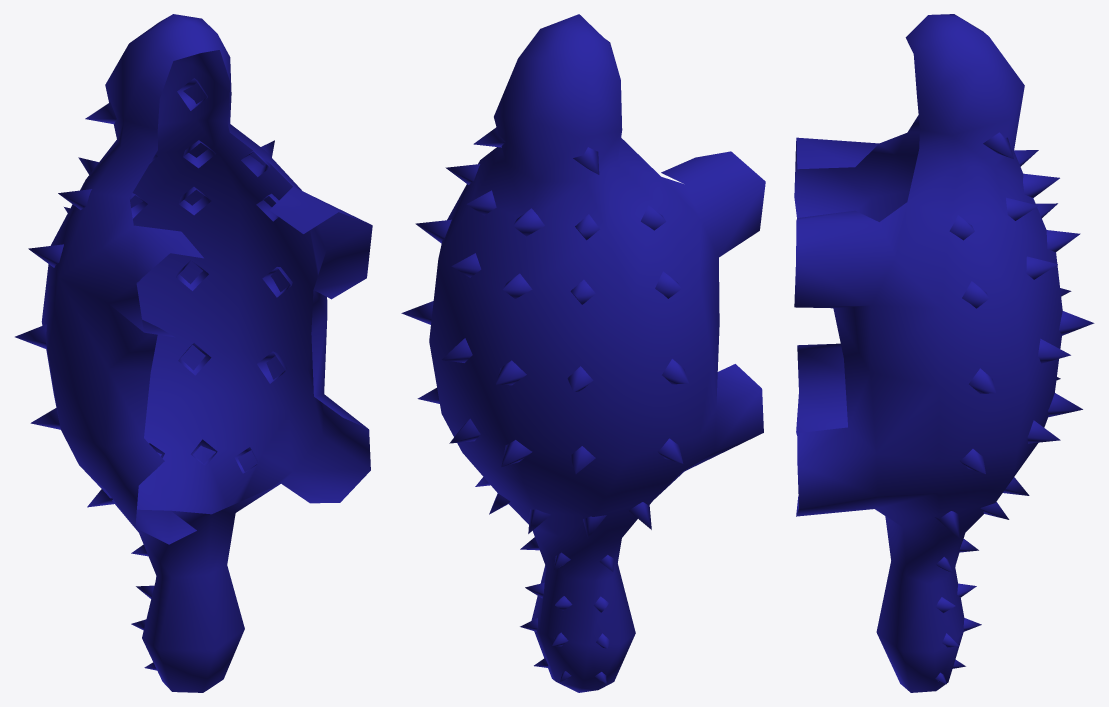
The model's file is Anky.fbx.
3 renders of one model, left to right at view 1: azimuth 30°, elevation 25°; view 2: azimuth 150°, elevation 25°; view 3: azimuth 270°, elevation 25°, orthographic.
Parts seen in each view (by area): view 1: Box002; view 2: Box002; view 3: Box002.
Boxes of the visible parts, x1=… form: Box002: x1=15, y1=14, x2=372, y2=692; Box002: x1=401, y1=14, x2=765, y2=692; Box002: x1=794, y1=14, x2=1094, y2=692.
Size of the model in its own units: 238 by 535 by 215.
